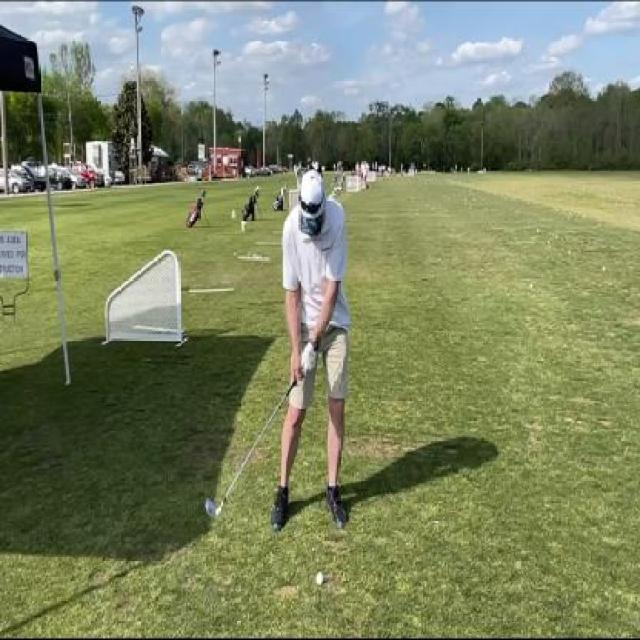club head: (202, 492, 229, 522)
